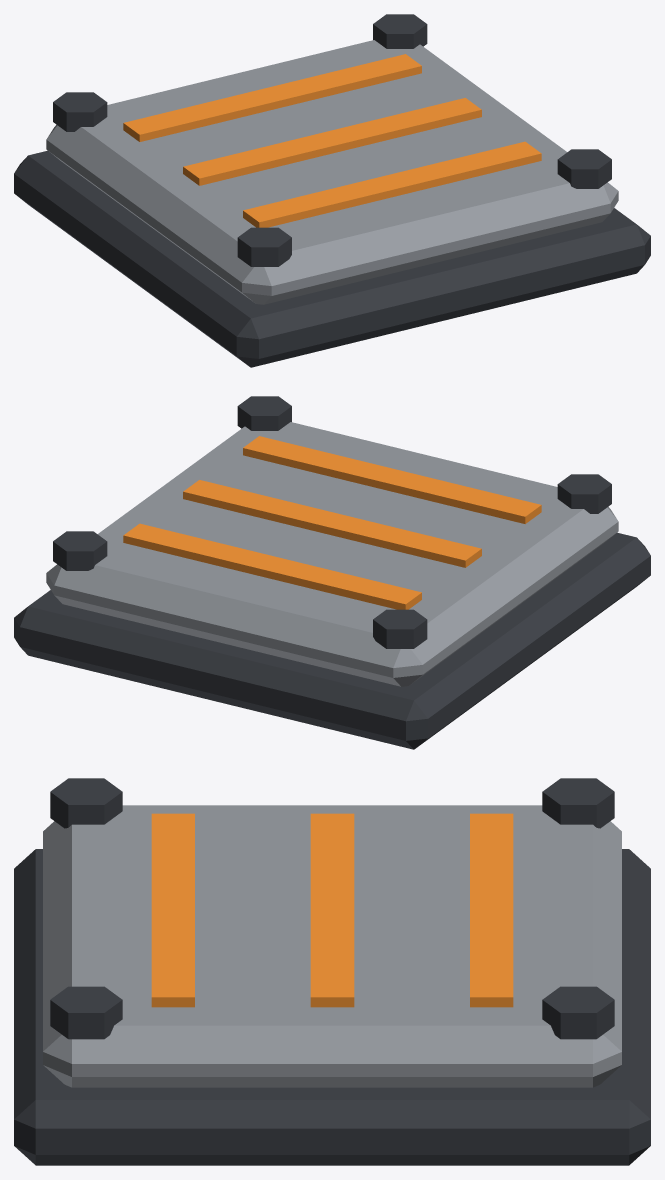
Rendered from armor_plate_heavy.glb.
3 views of the same model, one above another, from view 1: azimuth 30°, elevation 25°; view 2: azimuth 150°, elevation 25°; view 3: azimuth 270°, elevation 25° (orthographic). The views are drawn at different scales.
Visible parts, largest first — view 1: armor_plate_heavy; view 2: armor_plate_heavy; view 3: armor_plate_heavy.
Boxes of the visible parts, x1,y1,x2,y2 form: armor_plate_heavy: (14, 14, 650, 367); armor_plate_heavy: (14, 396, 650, 749); armor_plate_heavy: (14, 778, 650, 1165).
Size of the model in its own units: 0.88 by 0.22 by 0.88.
